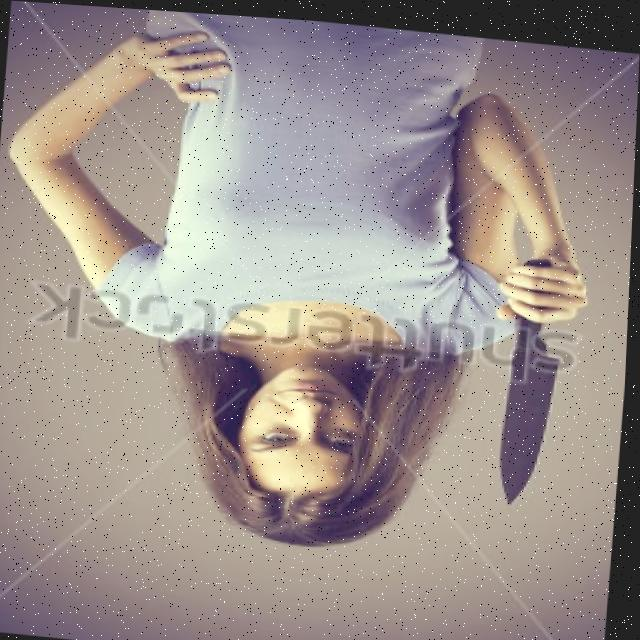knife: (496, 308, 567, 506)
